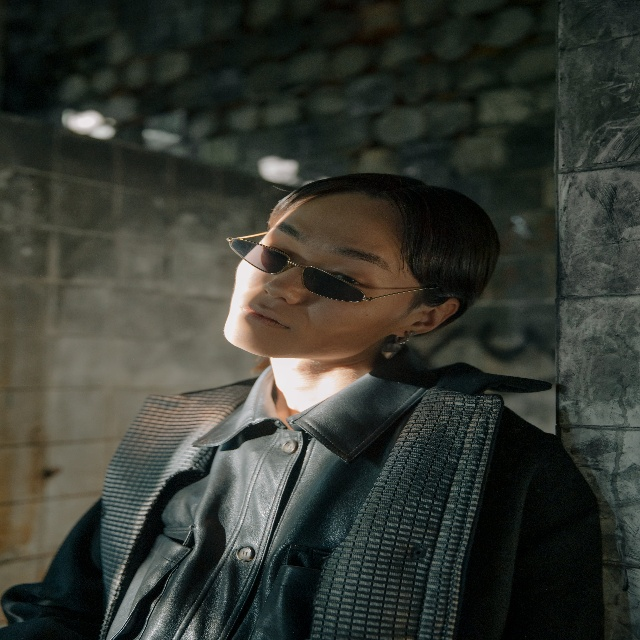Gafas: (228, 234, 370, 313)
